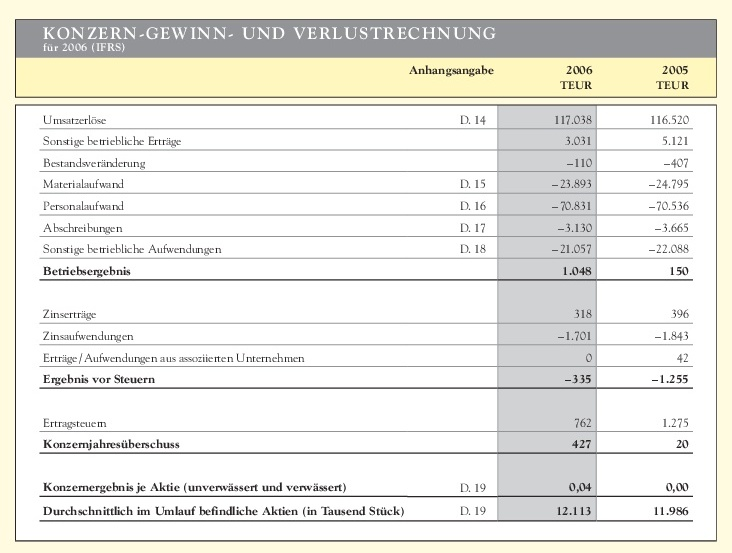table: (0, 0, 732, 553)
